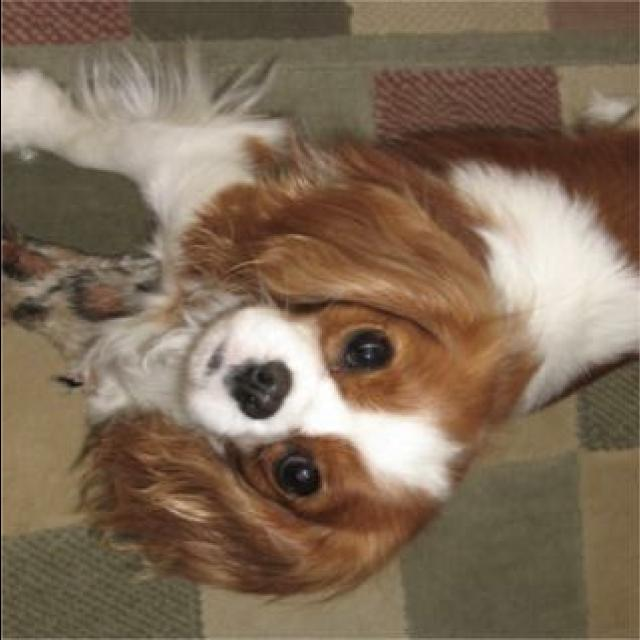blenheim_spaniel: (2, 66, 640, 598)
